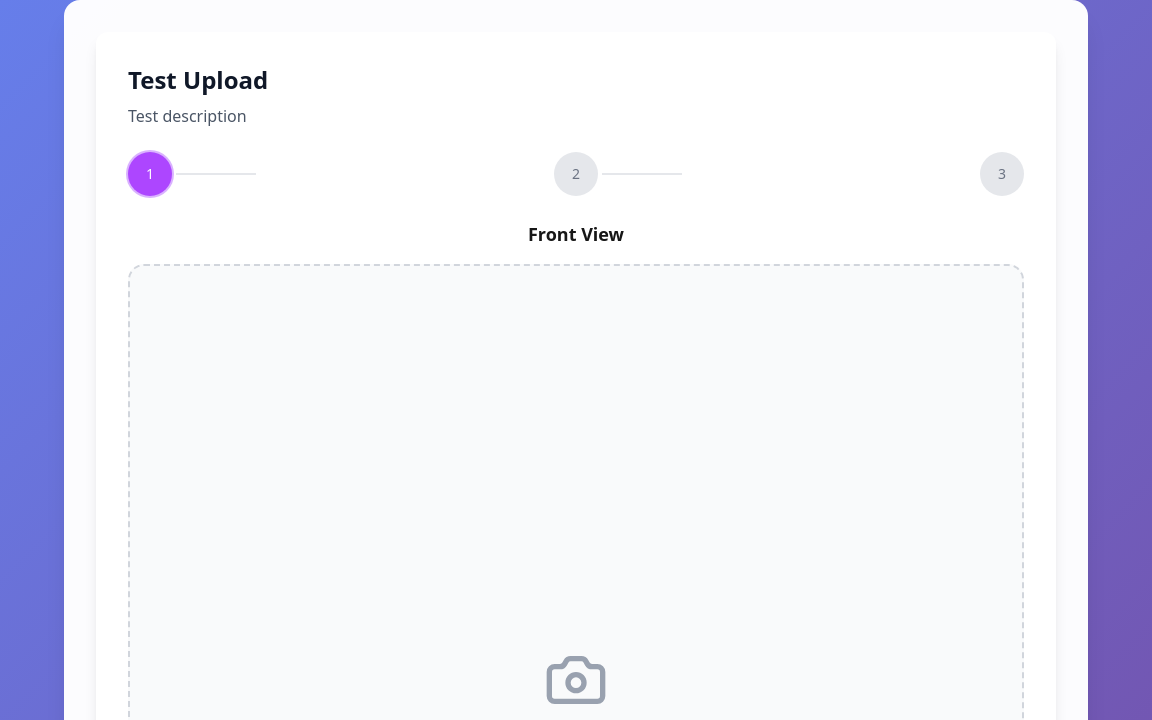
it: MobilePhotoUpload › should show previous button when not on first view
// Navigate to step 2
Click the button named "Step 2: side view" at (576, 174), box [554, 152, 598, 196]
(page scrolled)
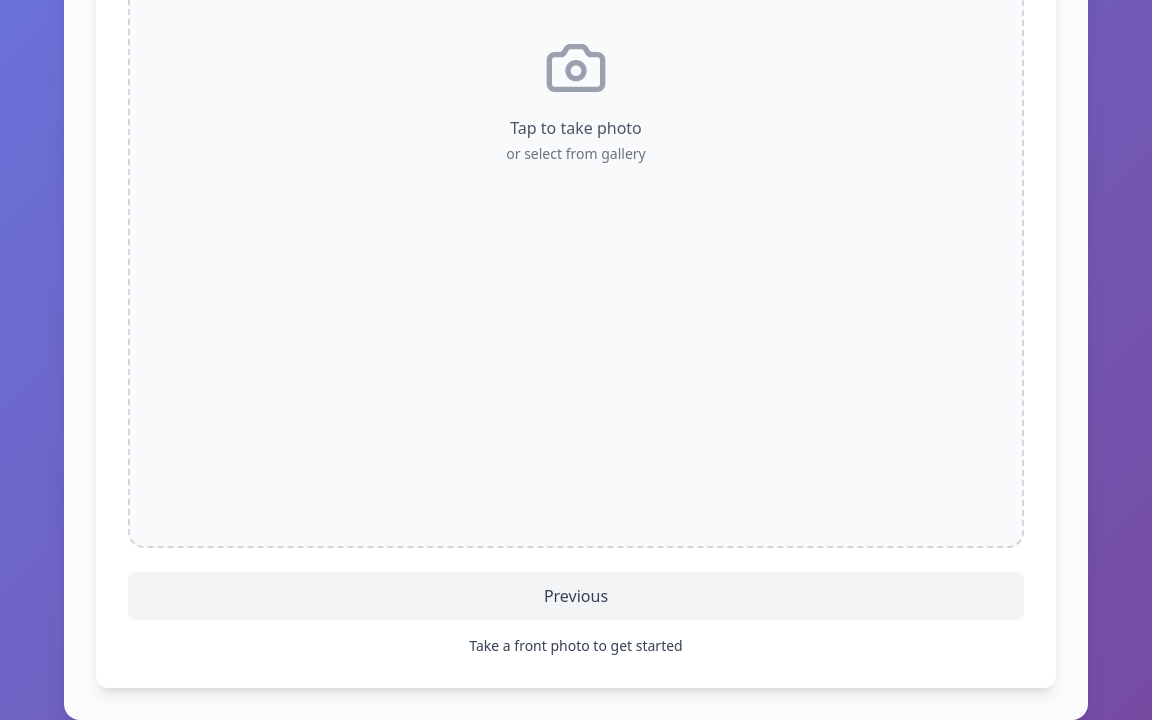
Expected: the button "Previous" is shown, [128, 572, 1024, 620]
